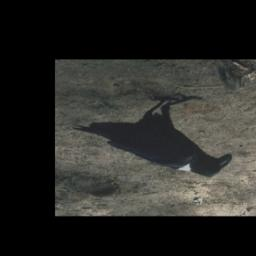Crow: (70, 94, 233, 179)
